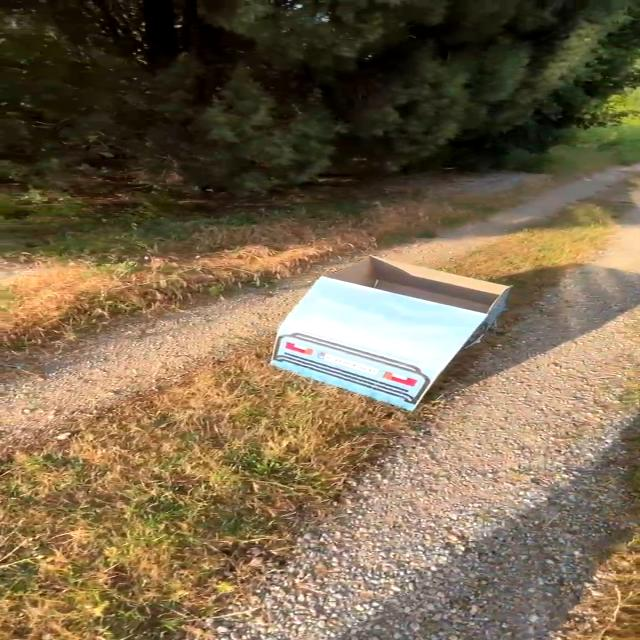blue_car: (225, 238, 553, 428)
